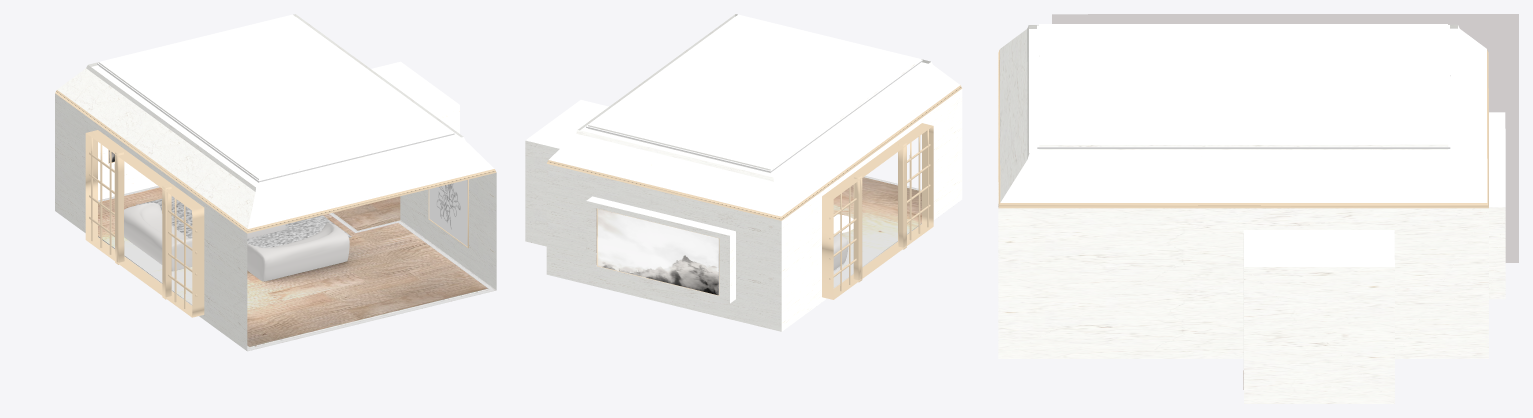
Rendered from mjp-simple-living.glb.
3 renders of one model, left to right at view 1: azimuth 30°, elevation 25°; view 2: azimuth 150°, elevation 25°; view 3: azimuth 270°, elevation 25°, orthographic. The views are drawn at different scales.
Parts seen in each view (by area): view 1: Modern Living Room_Walls_0, Modern Living Room_Planks_0, Modern Living Room_Lights_0, Modern Living Room_Sofa_0, Modern Living Room_Painting_0, Modern Living Room_Carpet_0, Modern Living Room_Floor_0; view 2: Modern Living Room_Walls_0, Modern Living Room_Lights_0, Modern Living Room_TVScreen_0, Modern Living Room_Planks_0; view 3: Modern Living Room_Walls_0, Modern Living Room_Backdrop_0, Modern Living Room_Lights_0.
Part boxes in pixels (x1,y1,x2,y2): Modern Living Room_Walls_0: [55, 14, 496, 350]; Modern Living Room_Planks_0: [98, 187, 487, 346]; Modern Living Room_Lights_0: [55, 63, 496, 350]; Modern Living Room_Sofa_0: [124, 202, 349, 281]; Modern Living Room_Painting_0: [429, 180, 467, 246]; Modern Living Room_Carpet_0: [136, 196, 351, 247]; Modern Living Room_Floor_0: [98, 186, 496, 351]; Modern Living Room_Walls_0: [525, 14, 962, 331]; Modern Living Room_Lights_0: [547, 60, 961, 299]; Modern Living Room_TVScreen_0: [597, 209, 718, 295]; Modern Living Room_Planks_0: [596, 177, 921, 287]; Modern Living Room_Walls_0: [998, 24, 1505, 403]; Modern Living Room_Backdrop_0: [1052, 14, 1518, 262]; Modern Living Room_Lights_0: [998, 49, 1488, 208].
Bounding box in the file's own units: 33.02 × 20.06 × 34.49.
16 materials, 15 textured.
